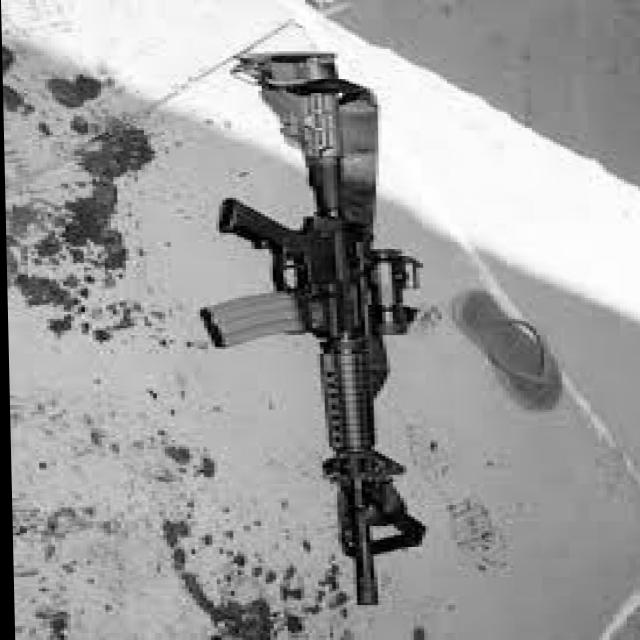rifle: (183, 56, 429, 608)
